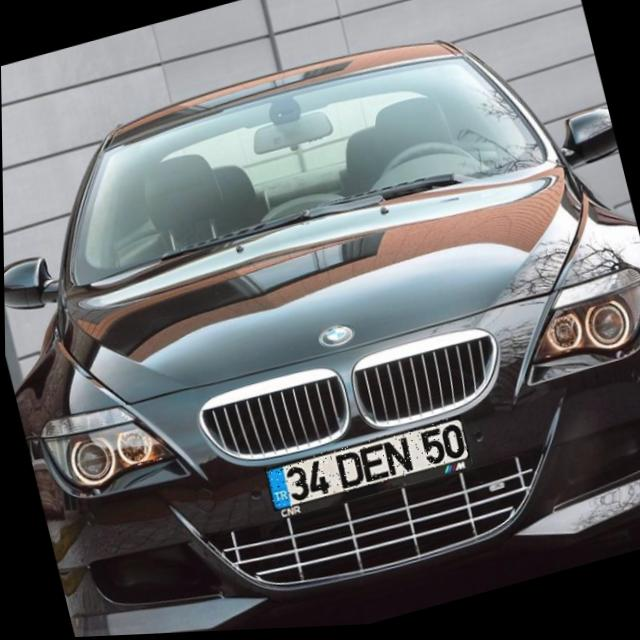license_plate: (261, 418, 469, 514)
